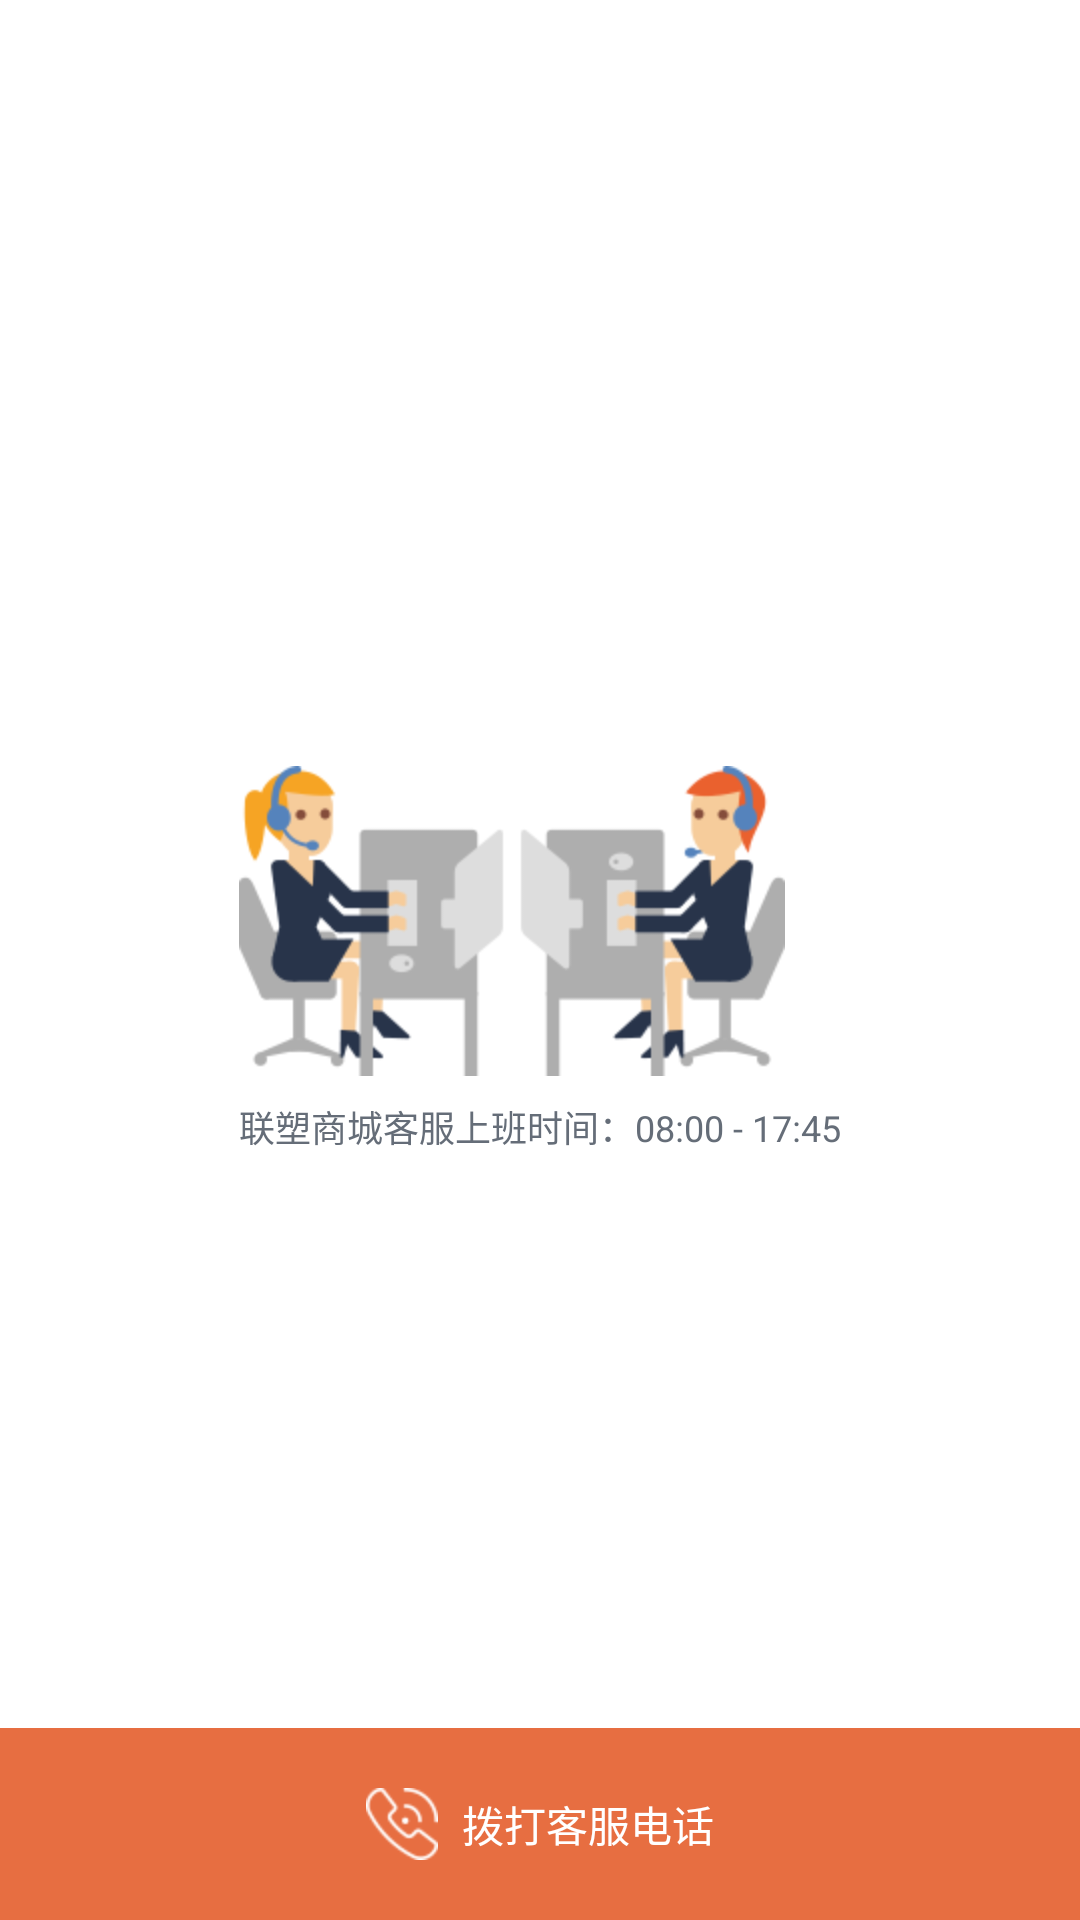

Named icons in this screenshot (1080×1920) and their centers, (x=x, y=y):
tele: (x=402, y=1824)
